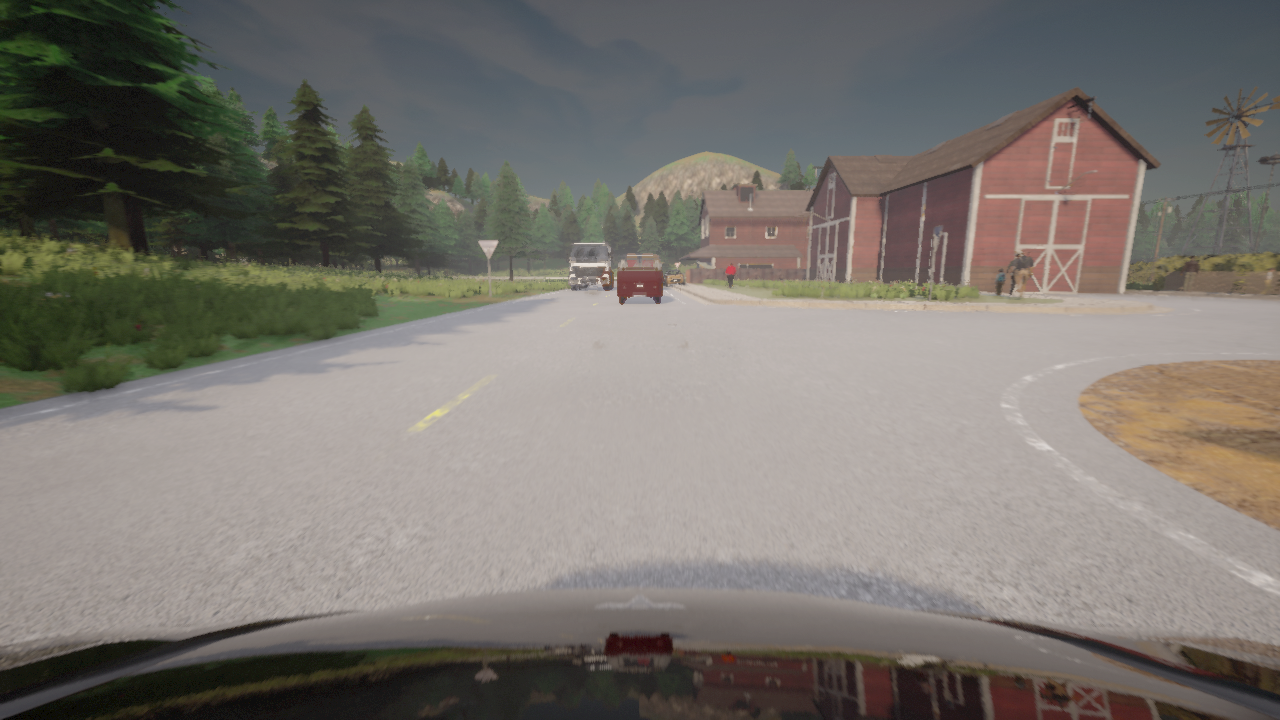cyclist: (0, 588, 1279, 719), (565, 242, 613, 289), (617, 254, 661, 302), (662, 269, 684, 286)
pedestrian: (1009, 249, 1032, 298), (1180, 255, 1199, 291), (1005, 253, 1020, 295), (1260, 267, 1274, 295), (995, 269, 1005, 295), (726, 263, 735, 287)
